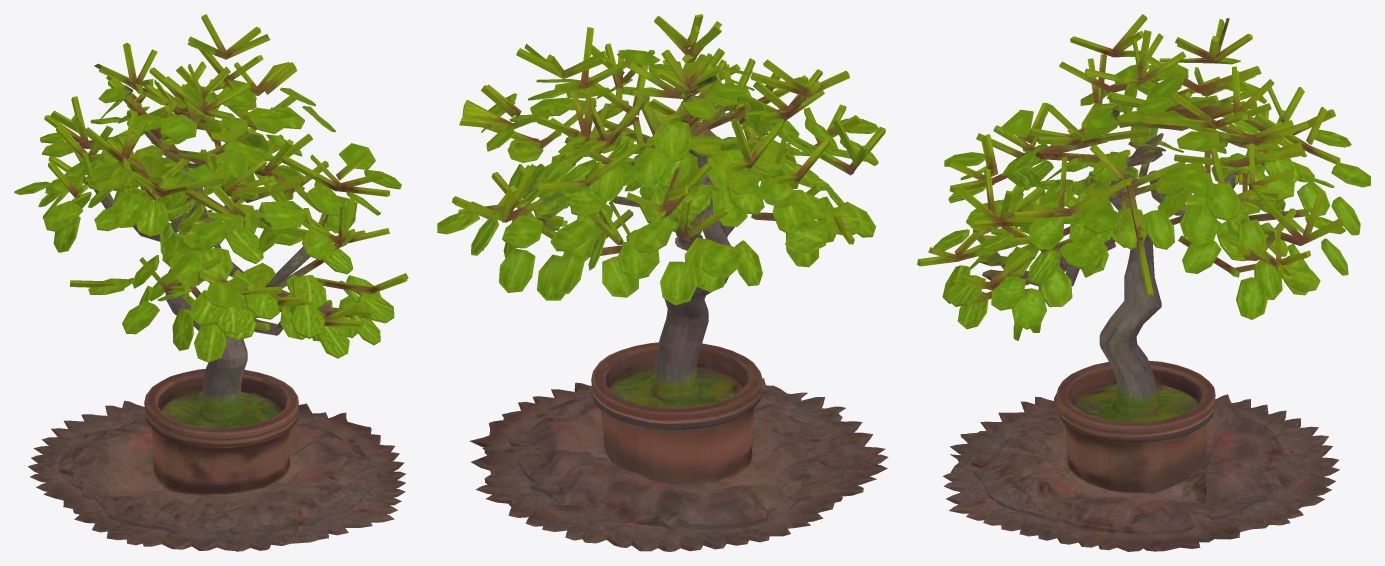
File: Meshy_AI_tree_in_a_pot_0602020944_texture.glb
The picture shows the model from 3 angles, left to right: view 1: azimuth 30°, elevation 25°; view 2: azimuth 150°, elevation 25°; view 3: azimuth 270°, elevation 25°; orthographic projection. The views are drawn at different scales.
Bounding box in the file's own units: 1.46 × 1.85 × 1.75.
1 material, 1 textured.
